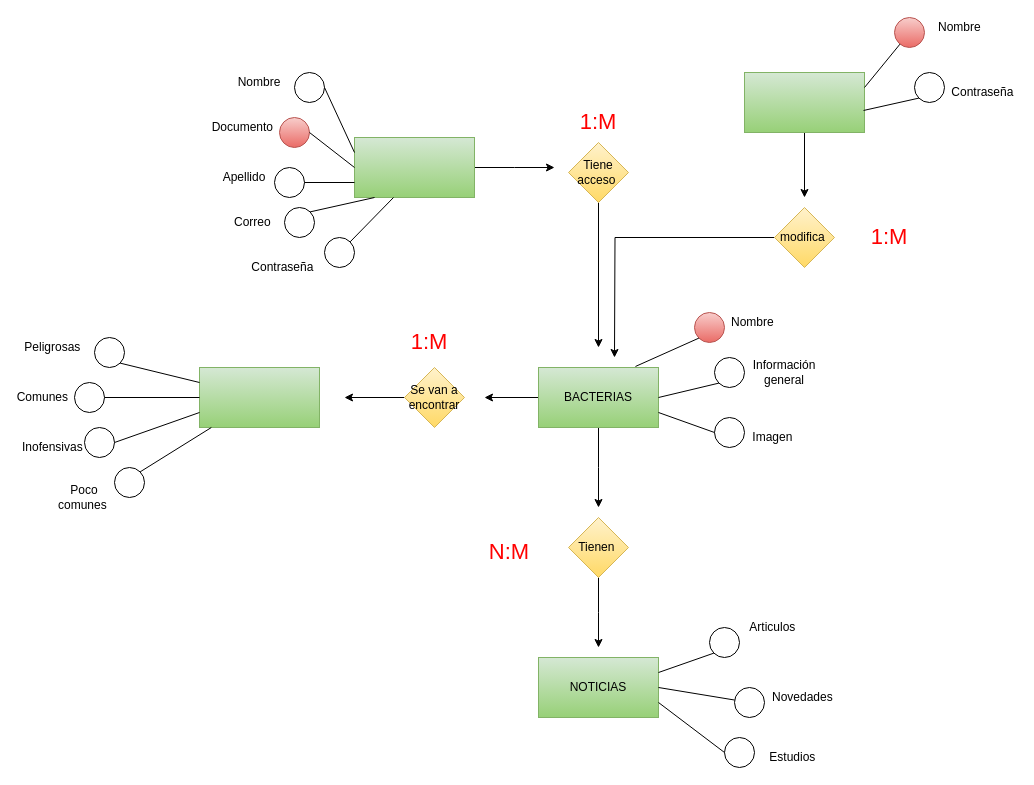
The diagram is 1034 pixels wide and 785 high, and some of its shapes have lost their labels. The box of each missing label's shape, as (x1, y1, x2, y2) in pixels:
ADMINISTRADOR: (744, 72, 864, 132)
CLASIFICACIÓN: (198, 366, 320, 428)
USUARIO: (354, 136, 474, 198)
